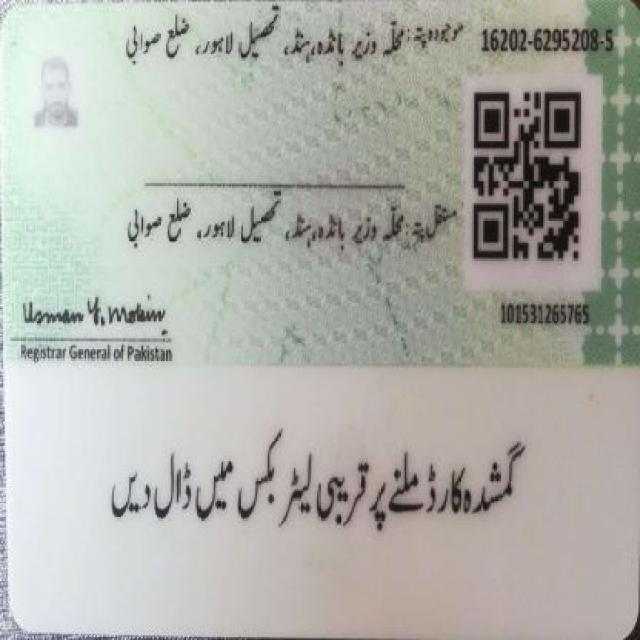Back: (3, 0, 637, 632)
